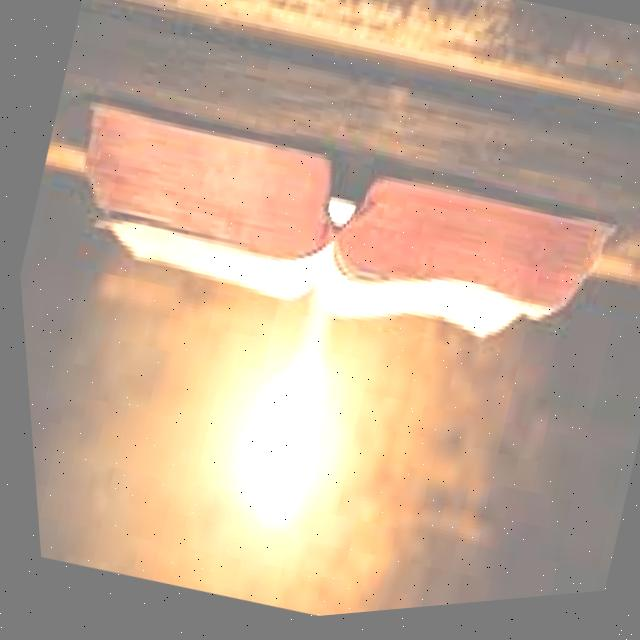Fire: (236, 412, 321, 535)
